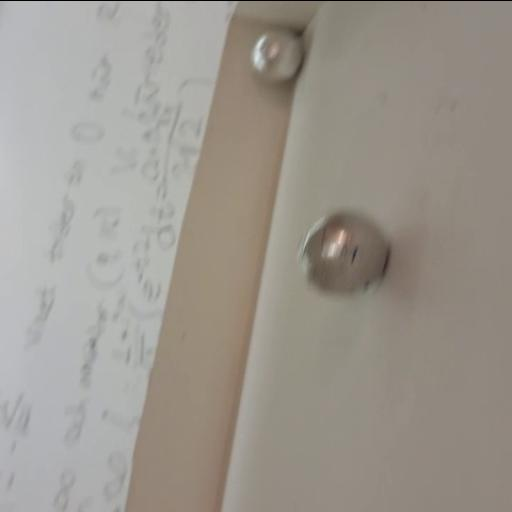alive: (294, 208, 392, 301), (246, 26, 306, 84)
